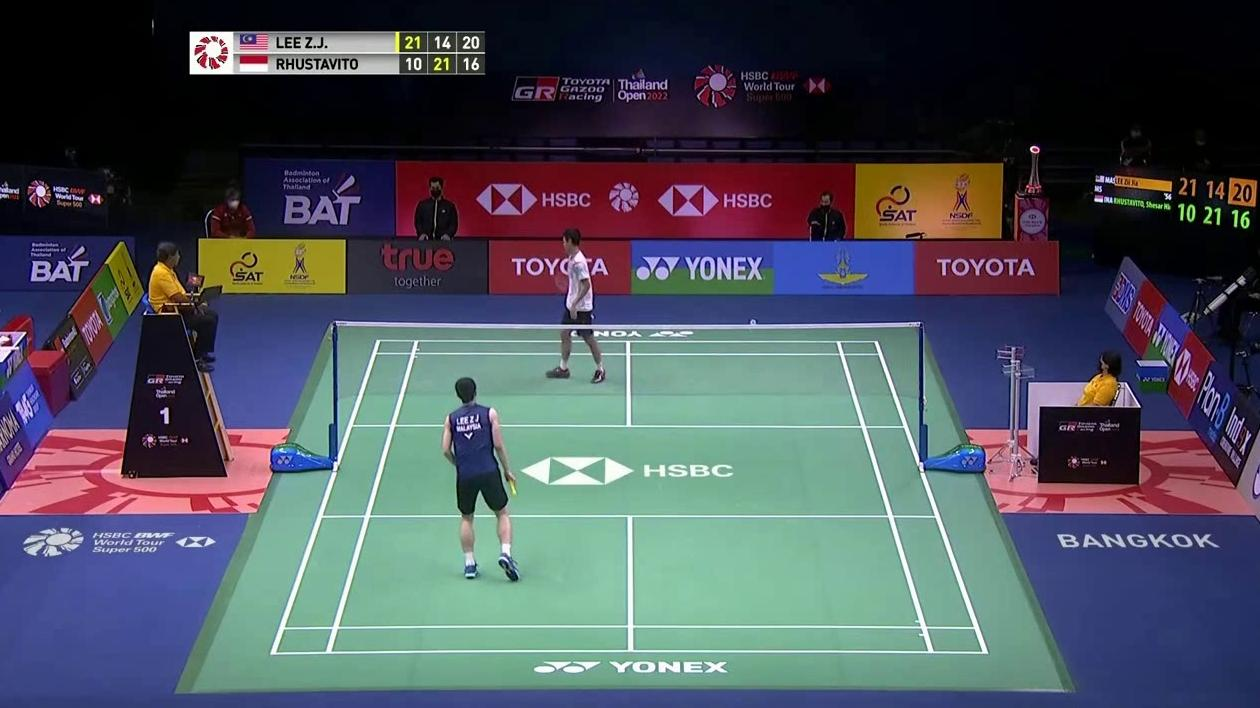racket: (502, 475, 526, 499), (553, 270, 570, 296)
shuttle: (748, 318, 759, 327)
